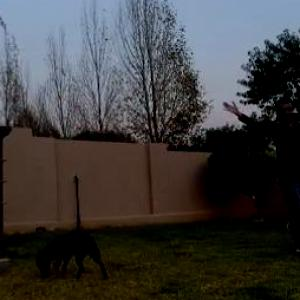takeoff: (203, 98, 299, 256)
